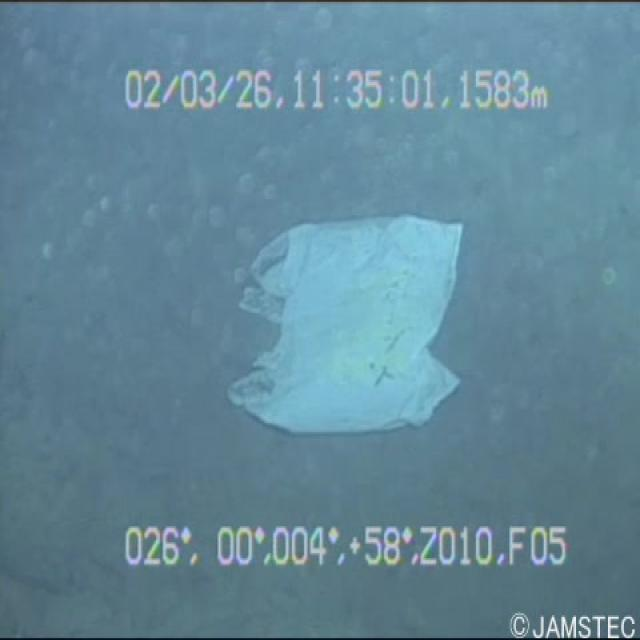plastic: (209, 196, 468, 454)
